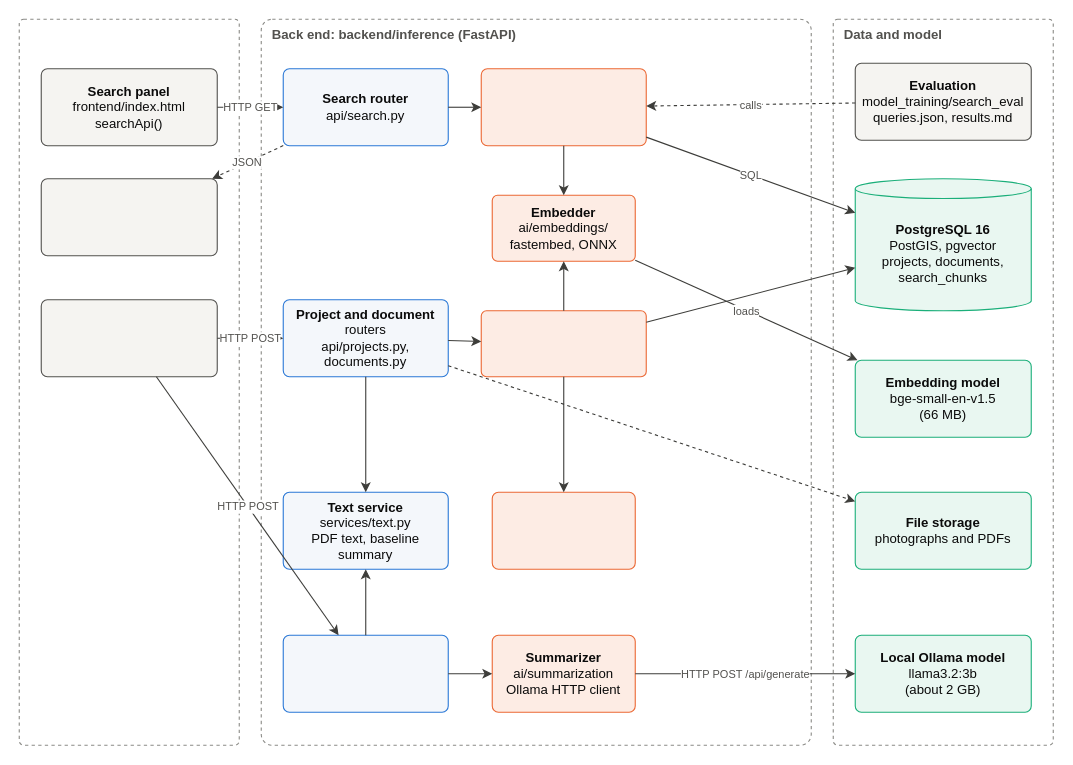
The diagram is 1073 pixels wide and 765 high, and some of its shapes have lost their labels. Each missing label, with the box of its shape:
Admin upload form frontend/index.html publishToApi(): (40, 299, 217, 377)
AI router api/ai.py summarize, extract-pdf: (282, 634, 448, 712)
Chunker ai/embeddings/ chunking.py: (491, 491, 635, 569)
Front end (static site): (18, 18, 239, 745)
Index service services/search_index.py reindex_project(): (480, 310, 646, 377)
Results drawer passage and similarity per result: (40, 178, 217, 256)
Search service services/search.py keyword, semantic, hybrid: (480, 68, 646, 146)
